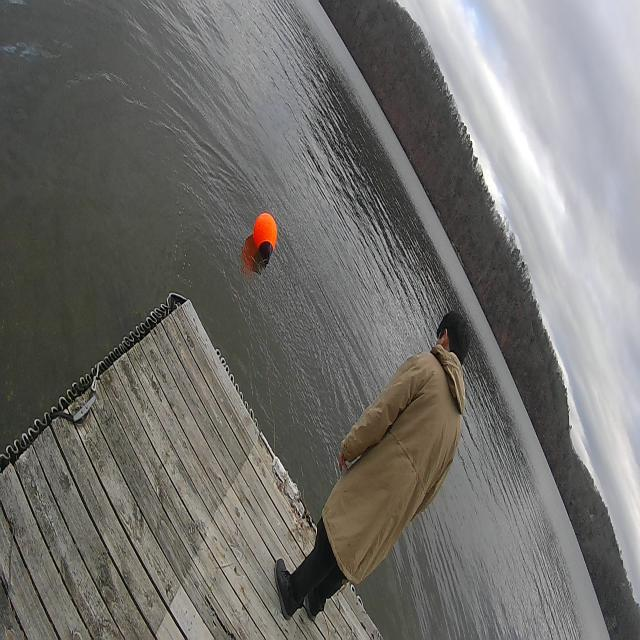Buoy: (251, 208, 280, 263)
